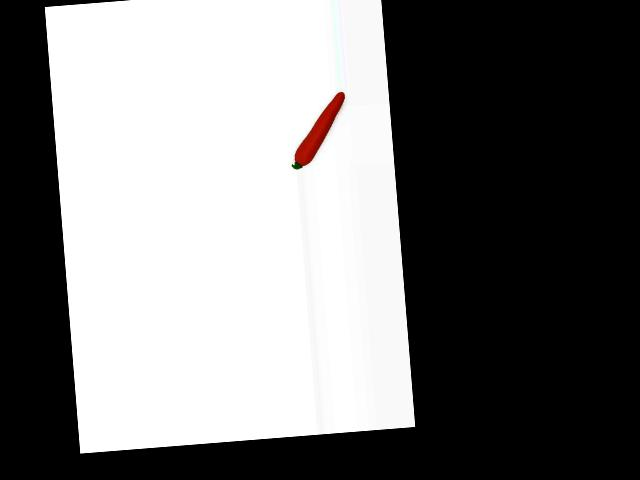carrot: (287, 90, 353, 166)
